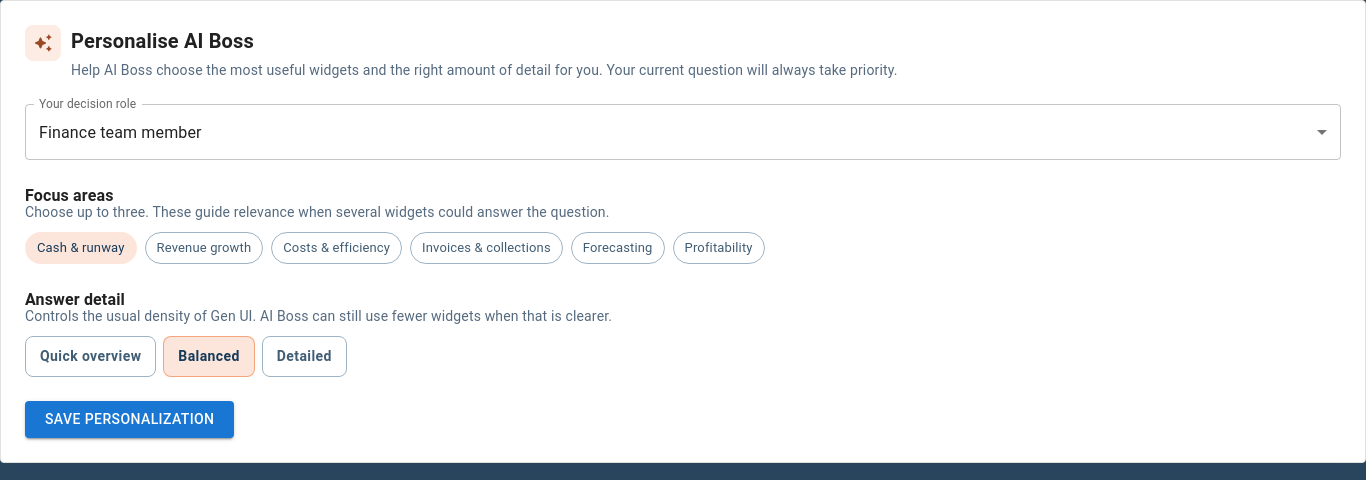
Test: GenUiPreferencesForm account-type controls › hides shared controls and shows worker roles to workers
The width and height of the screenshot is (1366, 480).
Press the mouse on the dropdown named "Your decision role" at [120, 132], box [39,123,202,142]
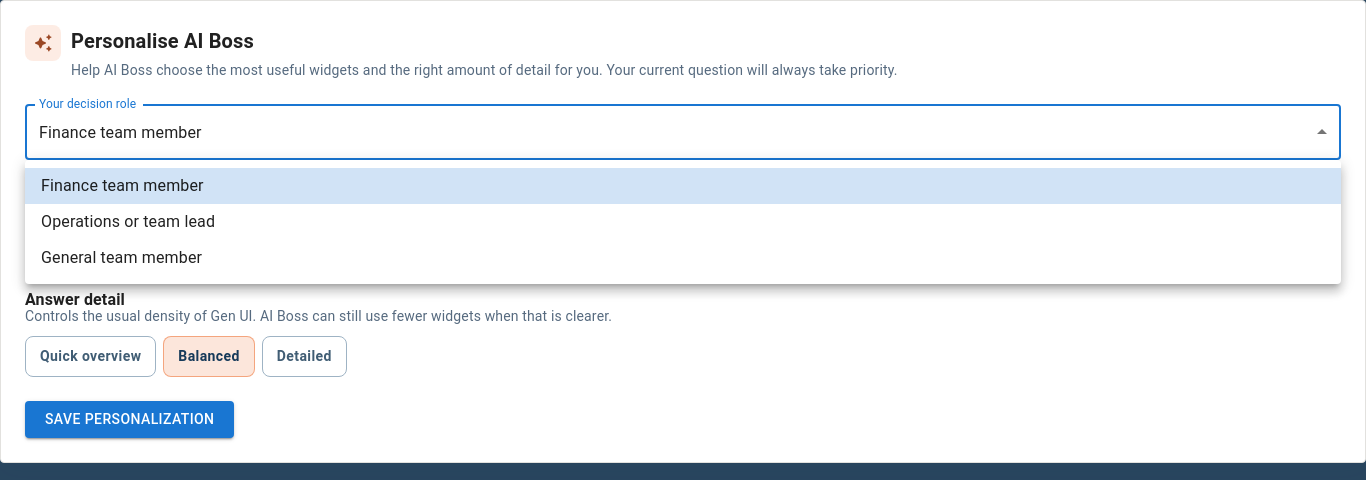
Result: the option "Finance team member" is shown at [25,168,1341,204]
Result: the option "Operations or team lead" is shown at [41,212,215,231]
Result: the option "General team member" is shown at [41,248,202,267]
